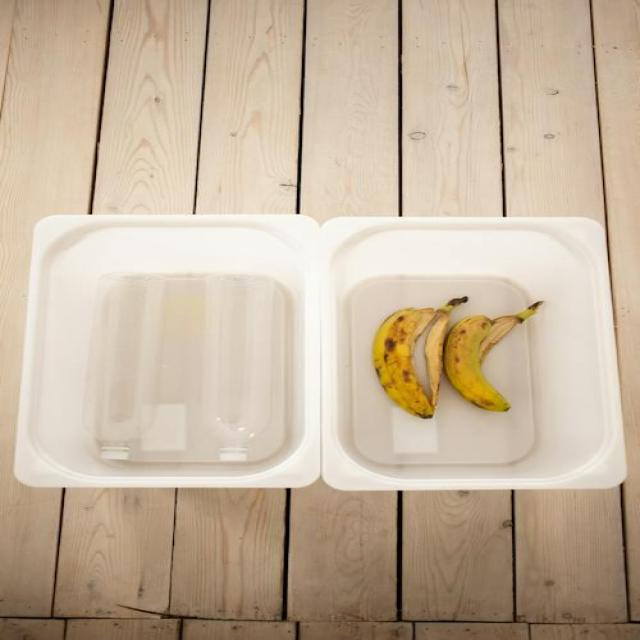plastic: (183, 268, 274, 466), (97, 254, 159, 463)
